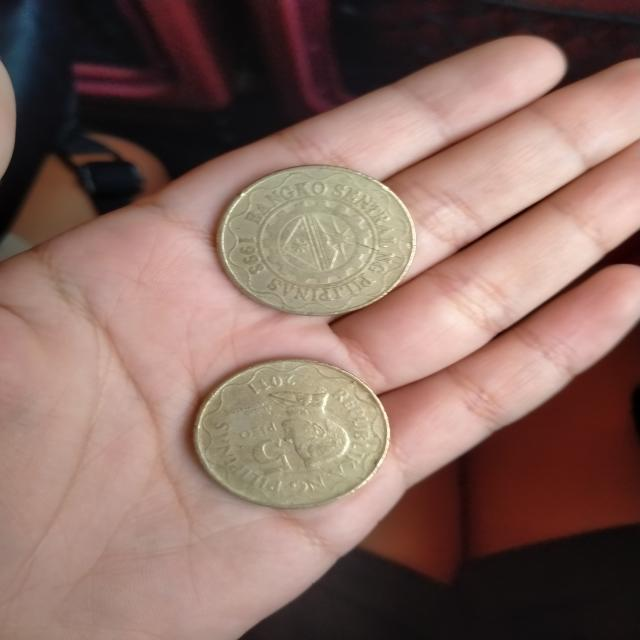5_Old_Back: (224, 161, 408, 319)
5_Old_Front: (238, 419, 292, 487)
